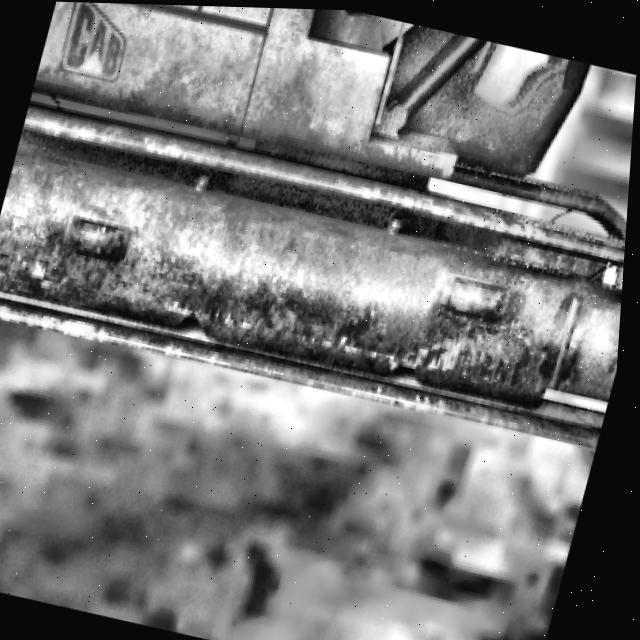excavator: (0, 0, 640, 451)
